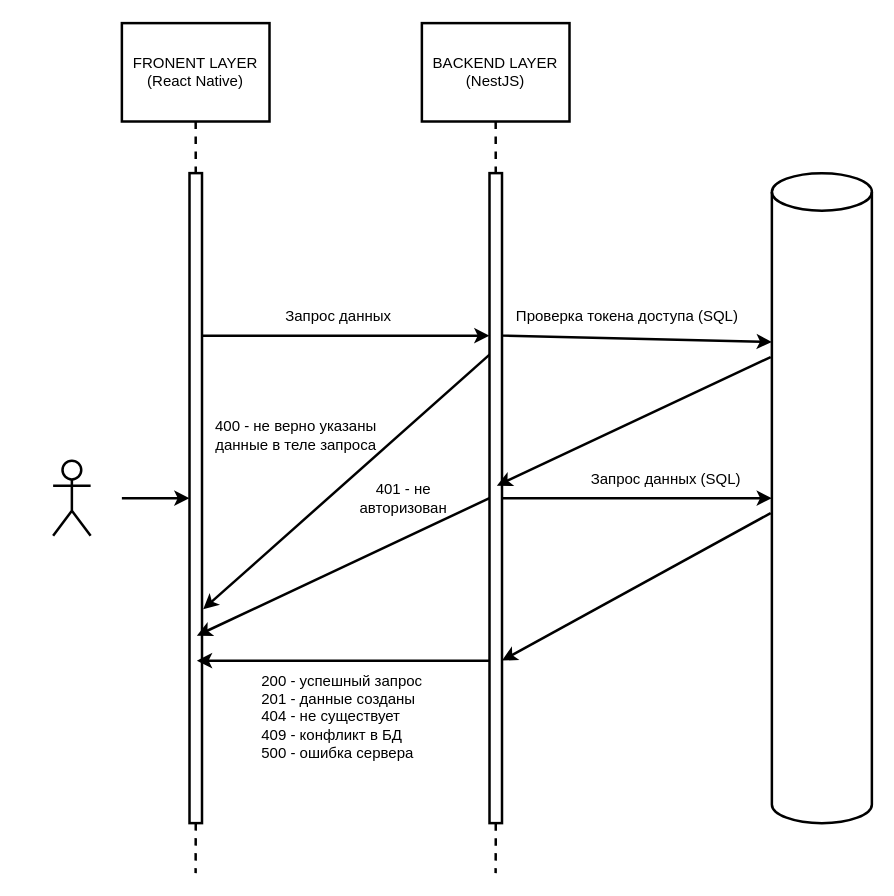
This 894x896 diagram has some shape labels left out. The shapes that lost their labels are listed below. From the top down, each one's centre as x and y in pixels, then its label:
point 71,497: Пользователь
point 821,497: MySQL
